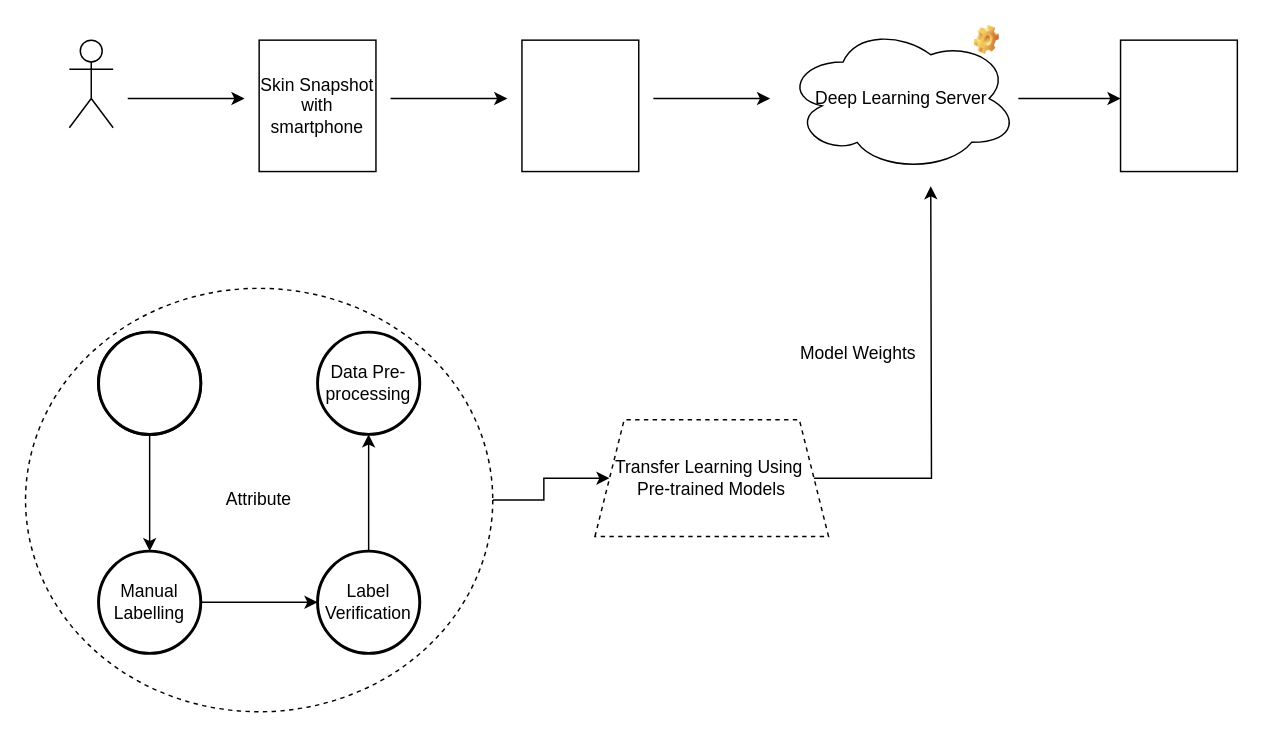
The diagram is 1263 pixels wide and 737 high, and some of its shapes have lost their labels. Here are the shapes that lost their labels. From the top down, the centre of each, then its label:
At point (90, 83): "Patient".
At point (579, 105): "Image Uploaded To a Web Portal".
At point (1178, 105): "Disease Prediction Score".
At point (148, 382): "Data Collection".
